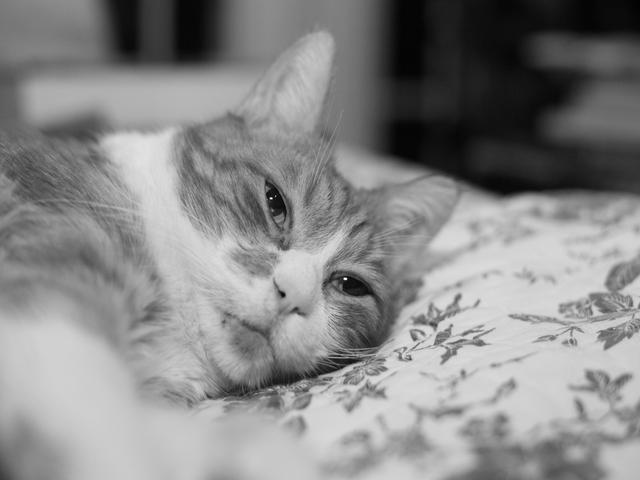cat: (84, 22, 474, 426)
